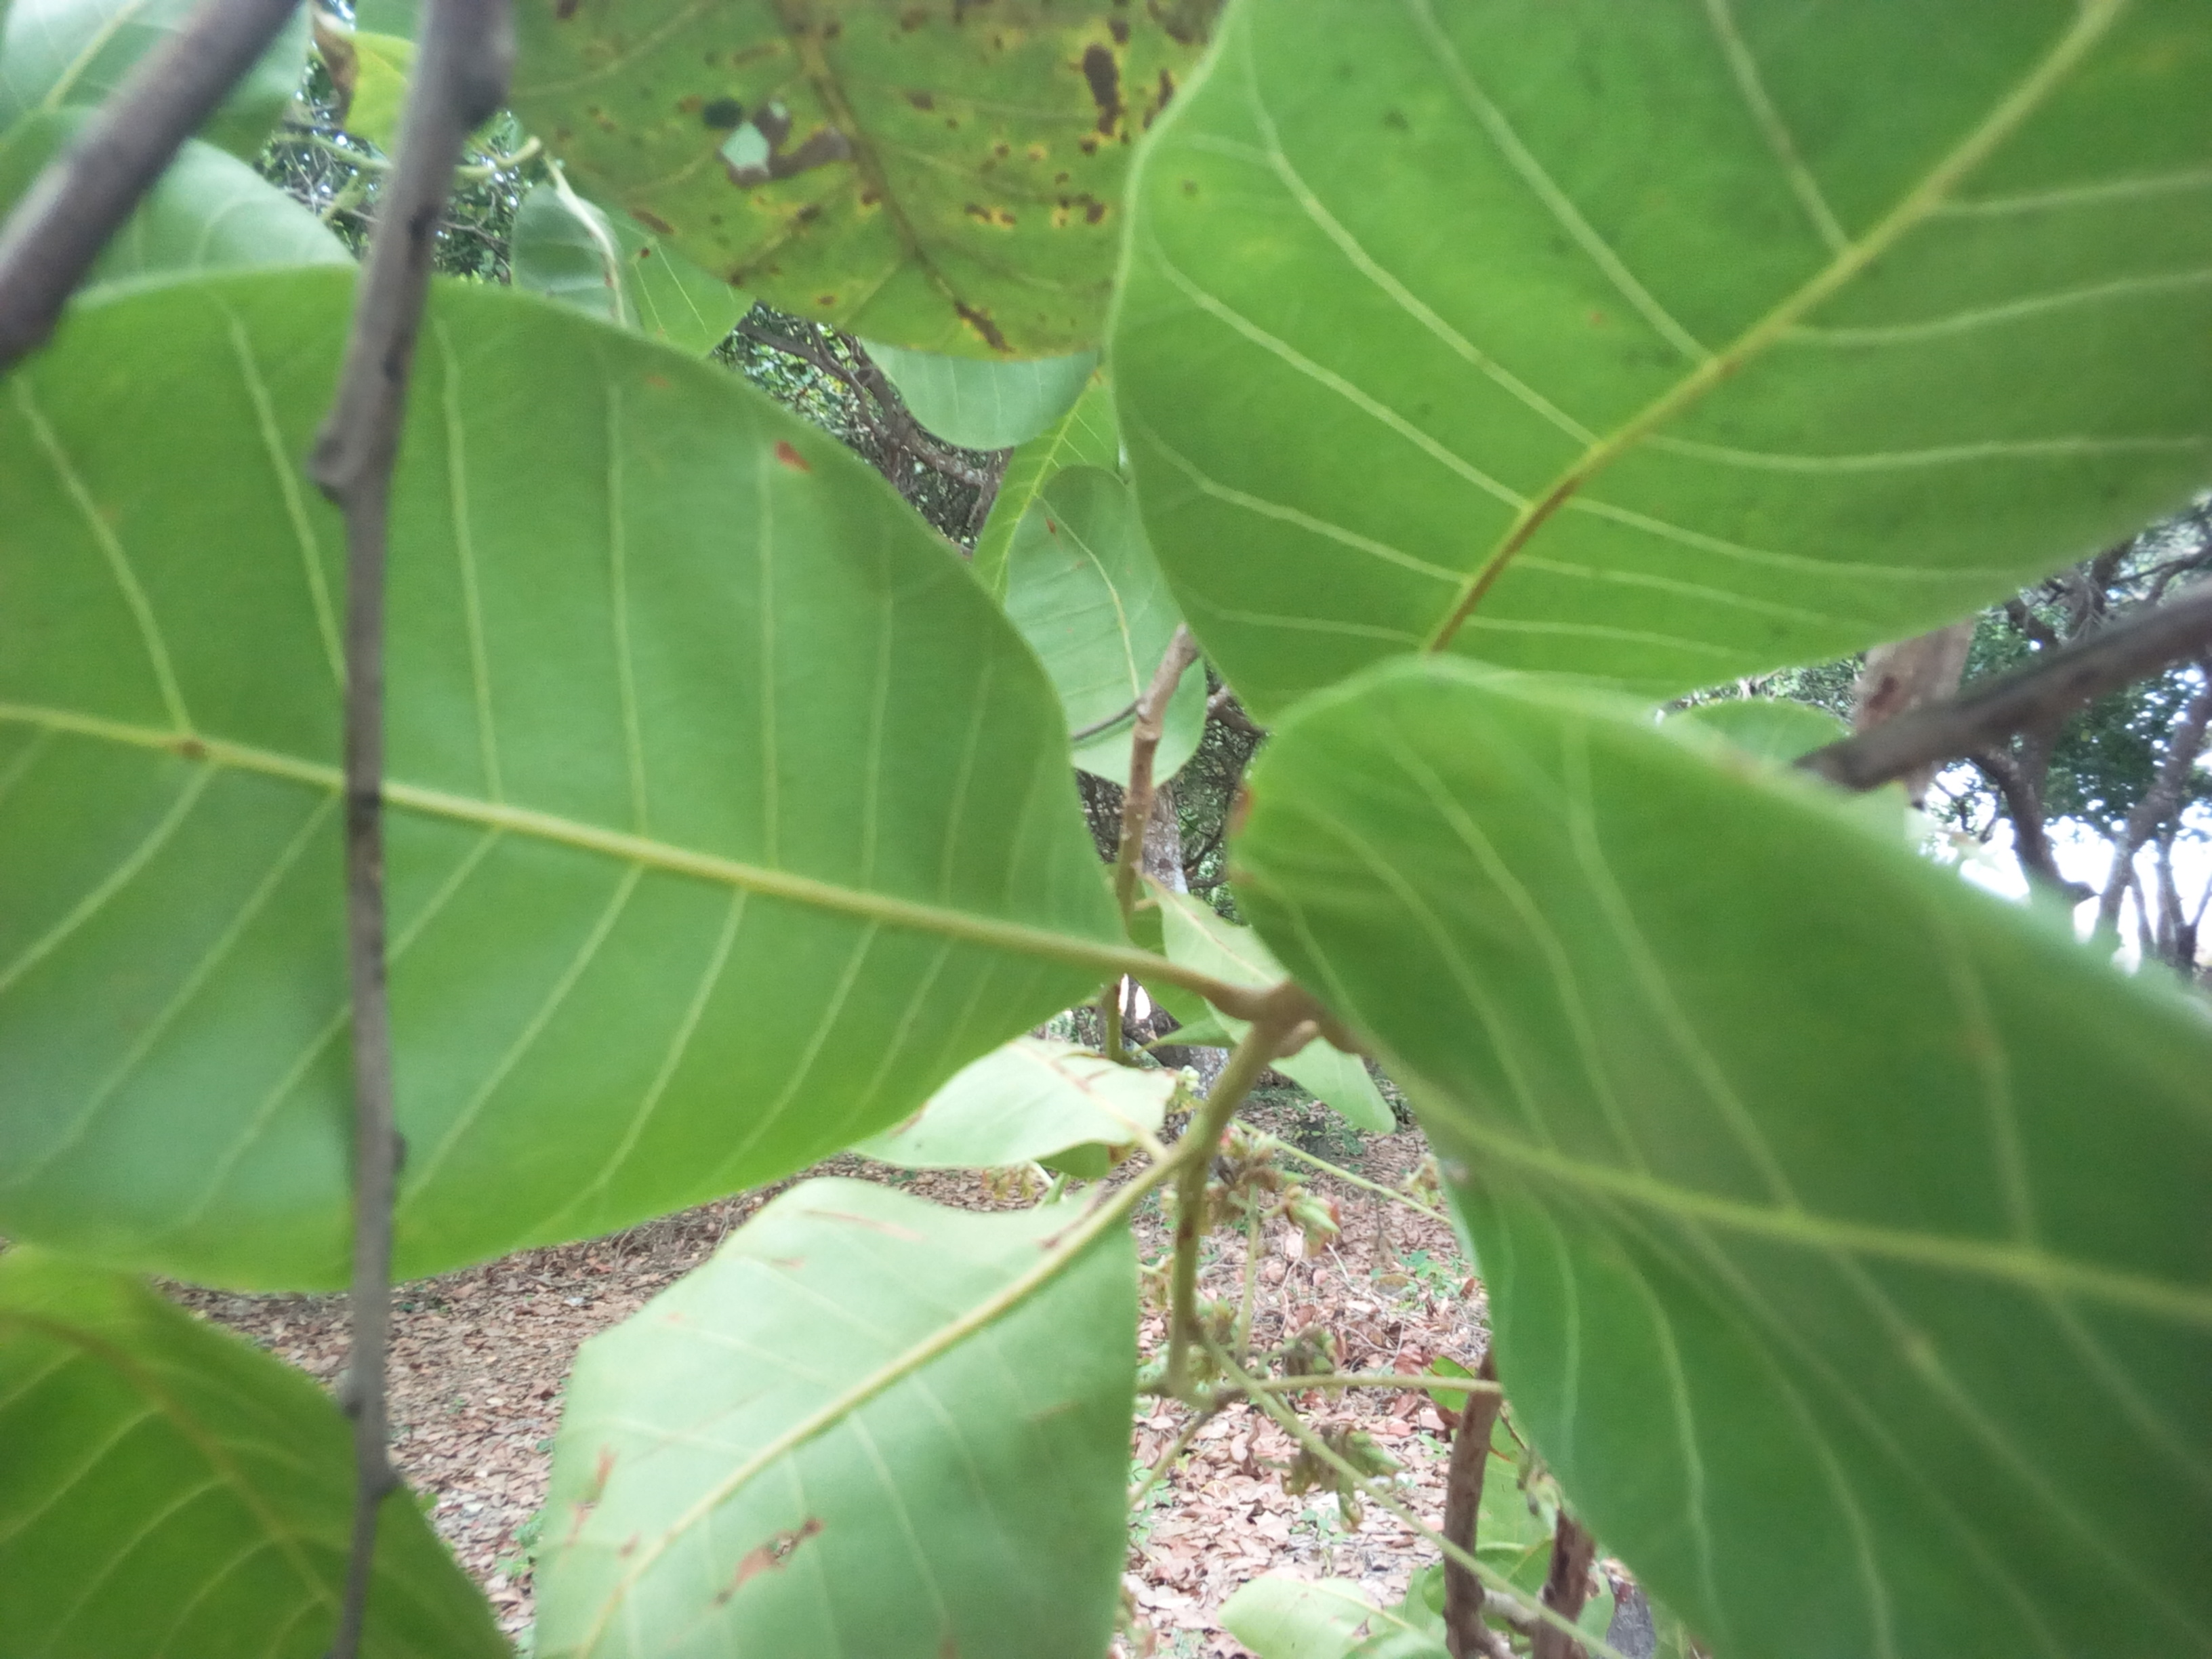Pestalotiose: (516, 0, 1151, 366)
